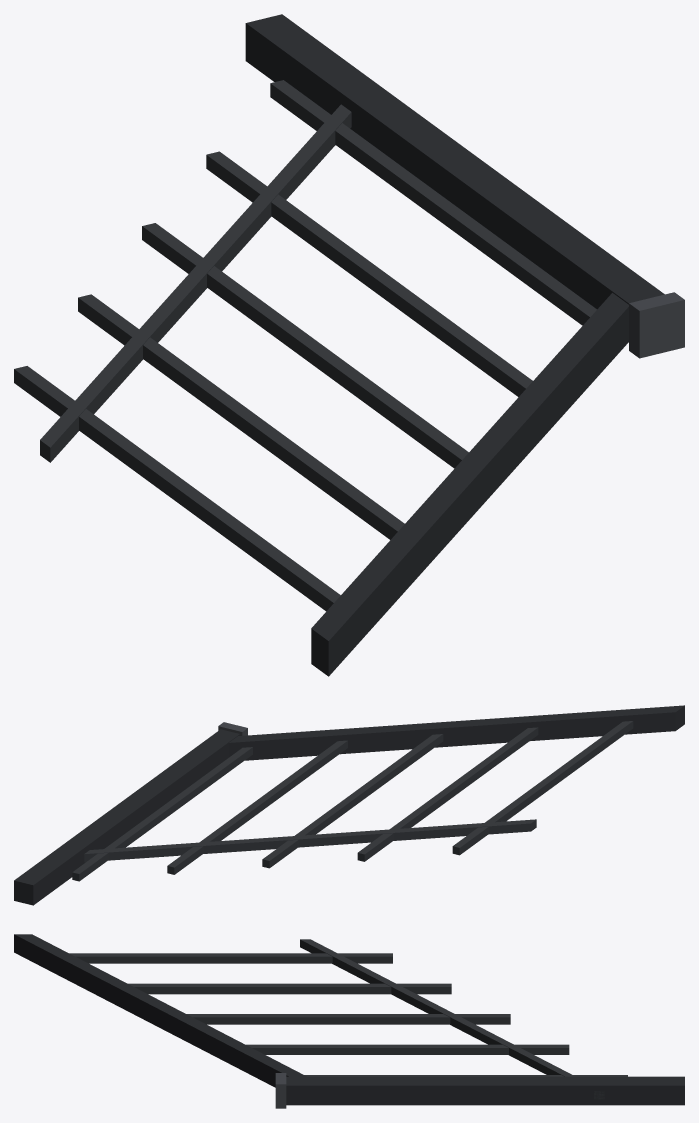
Rendered from rail-bottom.obj.
3 renders of one model, top to bottom at view 1: azimuth 30°, elevation 25°; view 2: azimuth 150°, elevation 25°; view 3: azimuth 270°, elevation 25°, orthographic. The views are drawn at different scales.
Size of the model in its own units: 1.01 by 0.075 by 1.87.
1 material, 1 textured.
